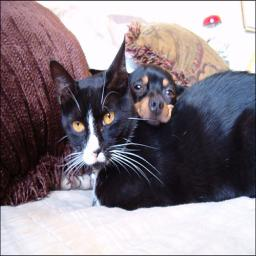catnose: (87, 144, 102, 158)
